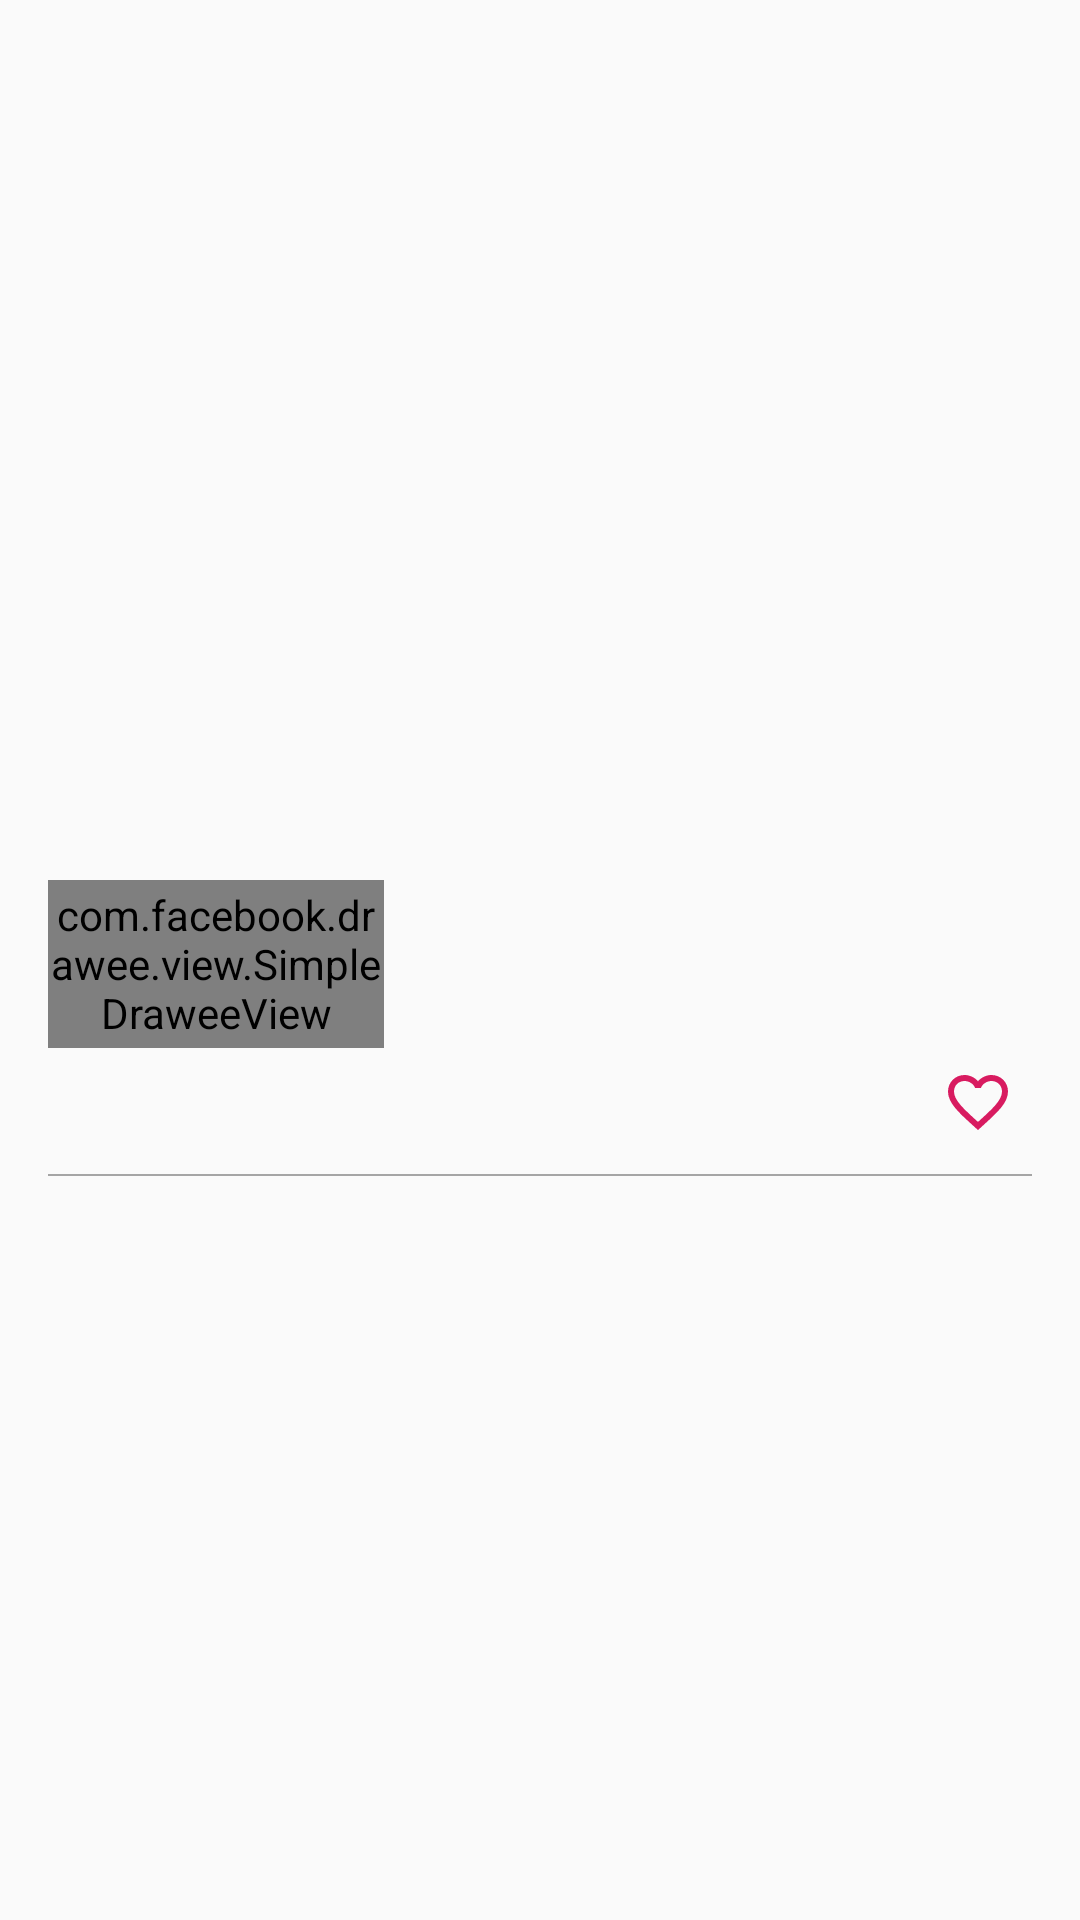

Screen size 1080px×1920px. Icon name, then its center in pixels as [x,y]:
favorite border: [978,1102]
